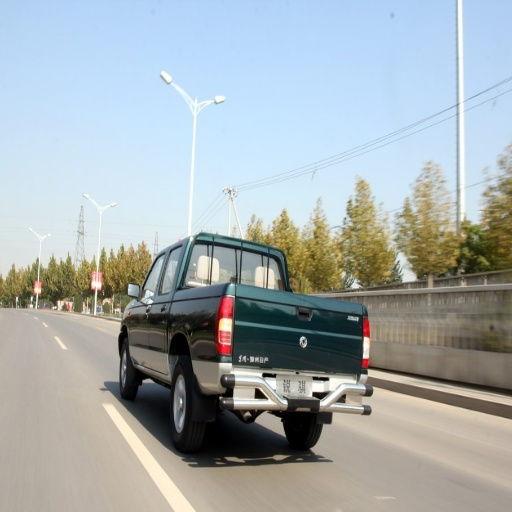trunk: (175, 288, 350, 399)
